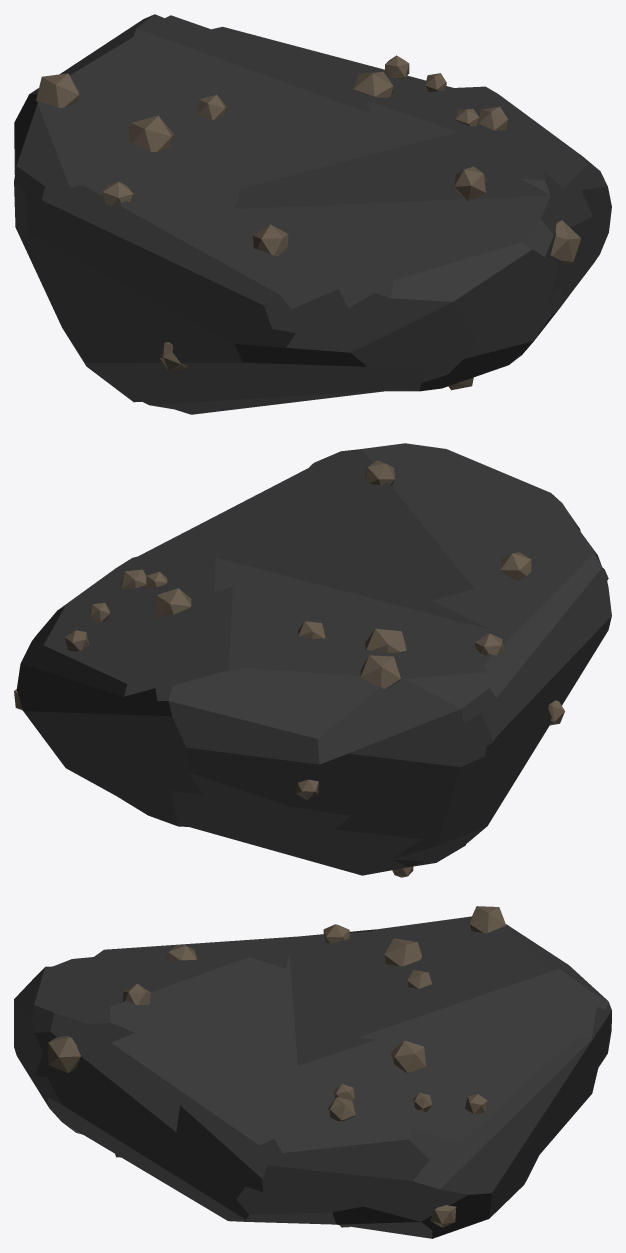
The model's file is Lowpoly_IronRock01.fbx.
The picture shows the model from 3 angles, top to bottom: view 1: azimuth 30°, elevation 25°; view 2: azimuth 150°, elevation 25°; view 3: azimuth 270°, elevation 25°; orthographic projection. The views are drawn at different scales.
Parts seen in each view (by area): view 1: IronRock01; view 2: IronRock01; view 3: IronRock01.
Boxes of the visible parts, <box> form: IronRock01: <box>14,14,611,414</box>; IronRock01: <box>14,443,611,877</box>; IronRock01: <box>14,906,611,1238</box>.
Size of the model in its own units: 580 by 335 by 708.
